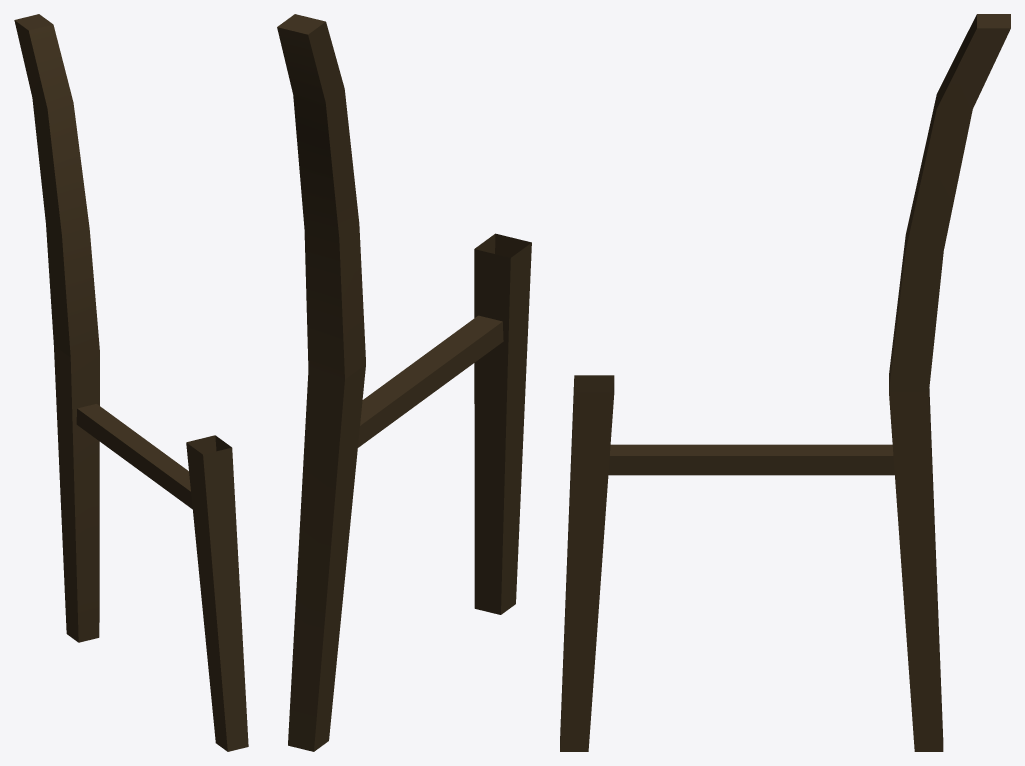
File: Itr_Chair3_Leg_Right_02.FBX
3 views of the same model, side by side, from view 1: azimuth 30°, elevation 25°; view 2: azimuth 150°, elevation 25°; view 3: azimuth 270°, elevation 25° (orthographic). The views are drawn at different scales.
Visible parts, largest first — view 1: Itr_Chair3_Leg_Right_02; view 2: Itr_Chair3_Leg_Right_02; view 3: Itr_Chair3_Leg_Right_02.
Part boxes in pixels (<box>): Itr_Chair3_Leg_Right_02: <box>14,14,248,751</box>; Itr_Chair3_Leg_Right_02: <box>277,14,531,751</box>; Itr_Chair3_Leg_Right_02: <box>560,14,1010,751</box>.
Bounding box in the file's own units: 3.08 × 39.55 × 22.7.
